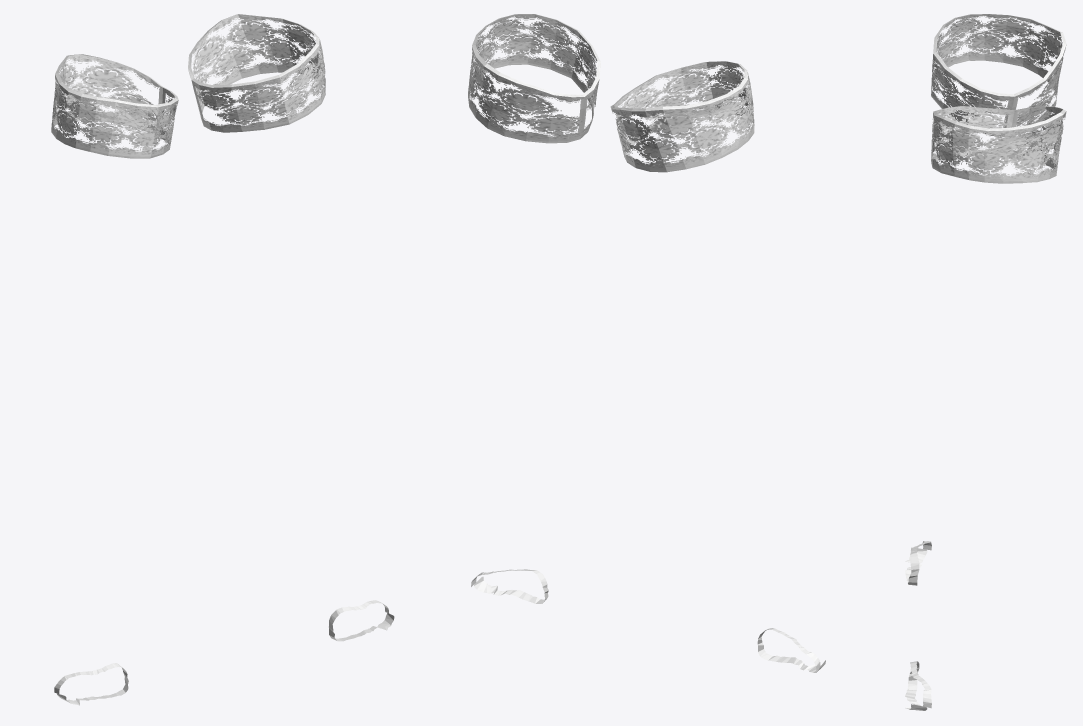
Rendered from mhw_punkduck_french_lingerie_stockings.glb.
The picture shows the model from 3 angles, left to right: view 1: azimuth 30°, elevation 25°; view 2: azimuth 150°, elevation 25°; view 3: azimuth 270°, elevation 25°; orthographic projection. The views are drawn at different scales.
Visible parts, largest first — view 1: mhw_punkduck_french_lingerie_stockings; view 2: mhw_punkduck_french_lingerie_stockings; view 3: mhw_punkduck_french_lingerie_stockings.
Part boxes in pixels (x1=…): mhw_punkduck_french_lingerie_stockings: x1=51, y1=14, x2=394, y2=705; mhw_punkduck_french_lingerie_stockings: x1=468, y1=14, x2=825, y2=672; mhw_punkduck_french_lingerie_stockings: x1=905, y1=14, x2=1066, y2=710.
Bounding box in the file's own units: 0.5356 × 0.8981 × 0.2971.
1 material, 1 textured.
